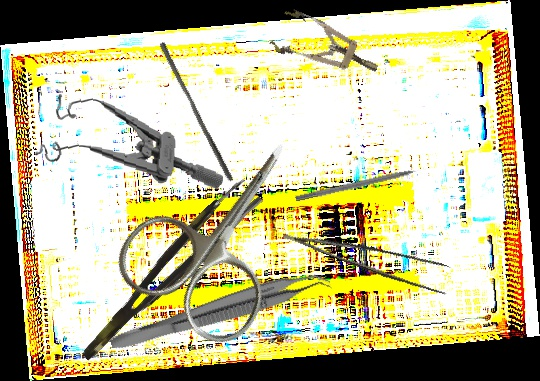Hook Surgical: (294, 164, 432, 204)
Iris Scissors: (104, 101, 347, 357)
Pusher: (153, 41, 240, 183)
Speculum: (32, 91, 230, 190), (267, 5, 386, 91)
Tissue Forceps: (66, 175, 265, 364), (108, 261, 333, 365), (282, 207, 457, 300)
